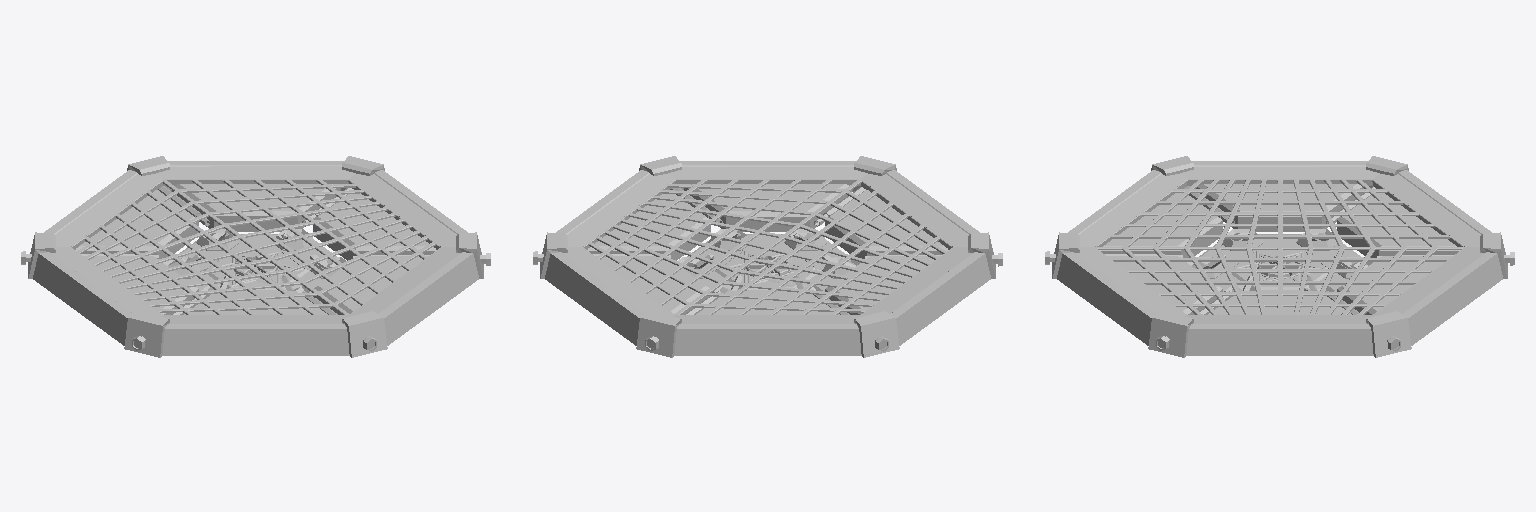
Rendered from JumpPad.obj.
3 renders of one model, left to right at view 1: azimuth 30°, elevation 25°; view 2: azimuth 150°, elevation 25°; view 3: azimuth 270°, elevation 25°, orthographic.
Parts seen in each view (by area): view 1: JumpPad; view 2: JumpPad; view 3: JumpPad.
Boxes of the visible parts, <box> form: JumpPad: <box>21,156,490,357</box>; JumpPad: <box>533,156,1002,357</box>; JumpPad: <box>1045,156,1514,357</box>.
Size of the model in its own units: 3.63 by 0.2982 by 4.11.